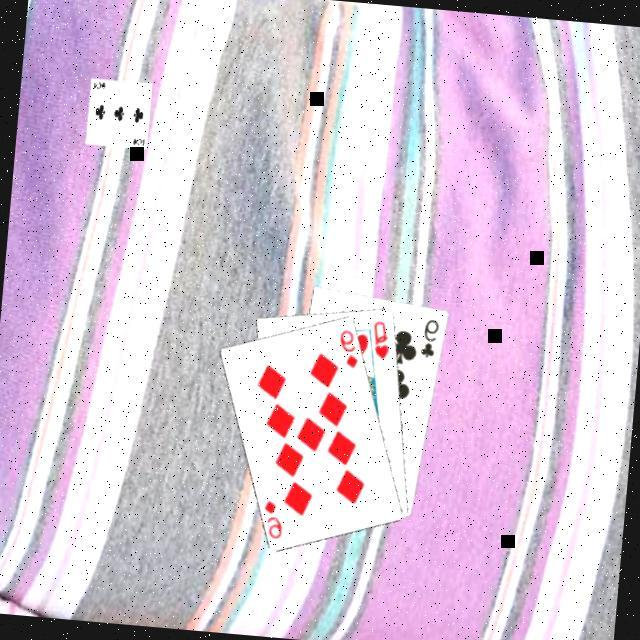9C: (415, 313, 441, 361)
9D: (332, 324, 362, 370), (256, 495, 286, 541)
QH: (366, 315, 392, 361)
